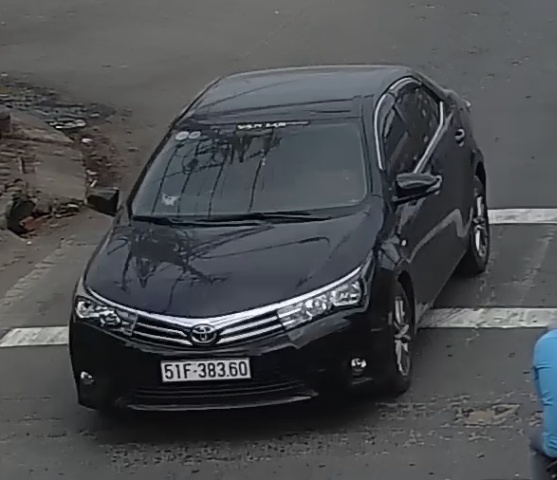vehicle plate: (158, 355, 253, 384)
